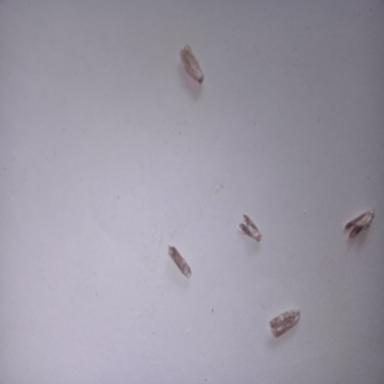pbw: (179, 43, 204, 83), (344, 208, 376, 238), (270, 308, 302, 337), (168, 245, 192, 277), (239, 213, 262, 241)
